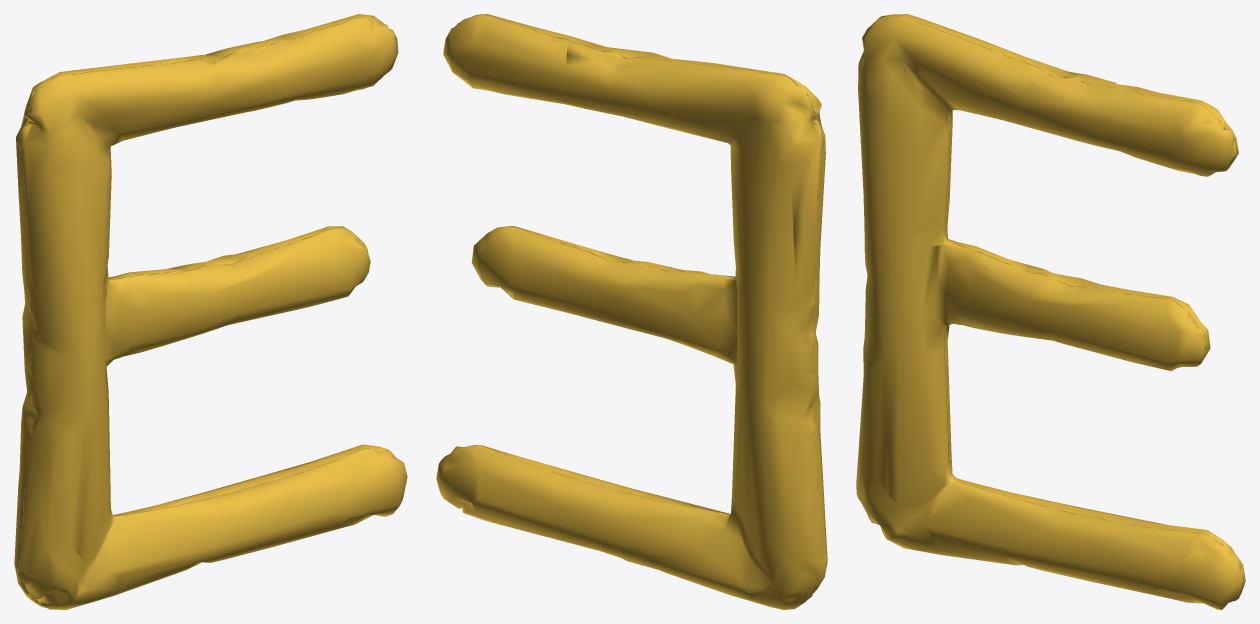
Rendered from ballon_E.fbx.
3 renders of one model, left to right at view 1: azimuth 30°, elevation 25°; view 2: azimuth 150°, elevation 25°; view 3: azimuth 330°, elevation 25°, orthographic.
Visible parts, largest first — view 1: Text; view 2: Text; view 3: Text.
Part boxes in pixels (left/top/right/bottom): Text: left=14, top=14, right=407, bottom=609; Text: left=436, top=14, right=827, bottom=609; Text: left=856, top=14, right=1245, bottom=609.
Size of the model in its own units: 45.46 by 59.82 by 8.89.
